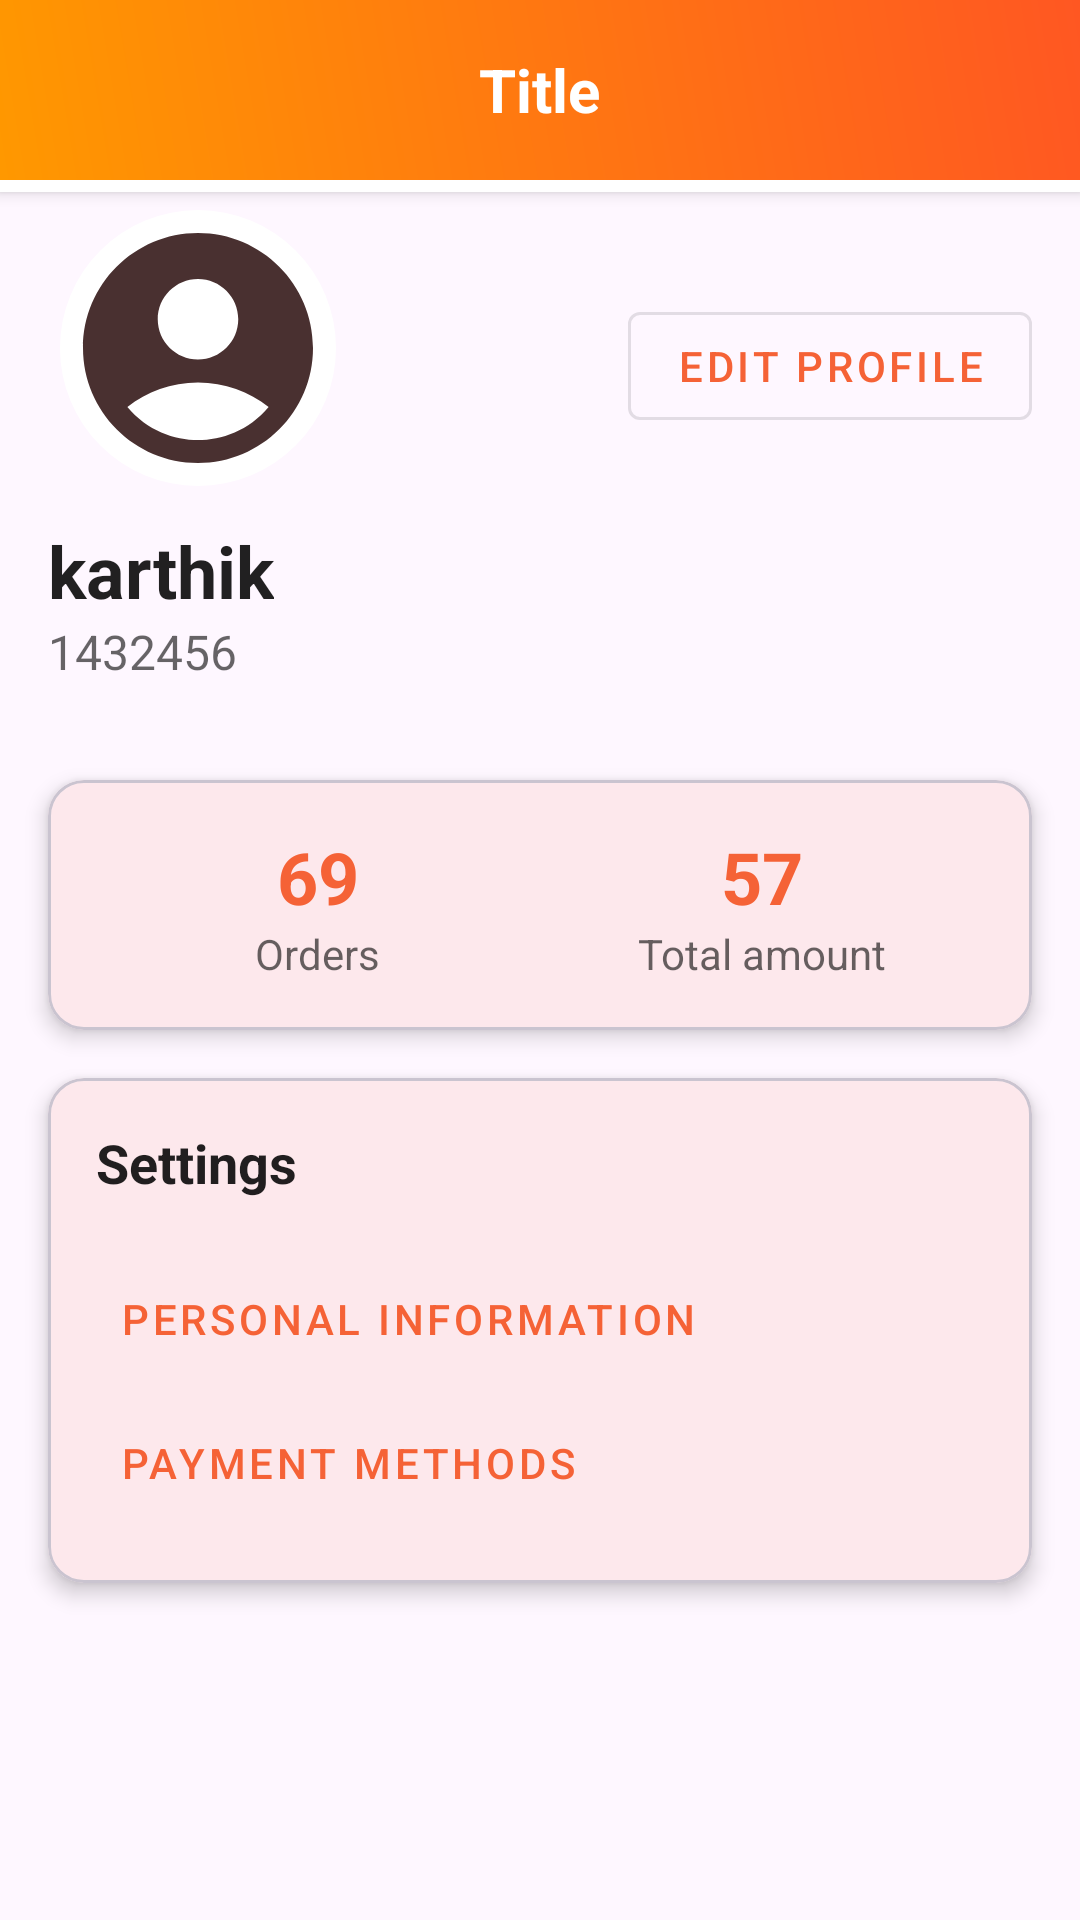

Point at icon controls on the screen. Image size 1080*1920, points as (x,y).
profile: (198,348)
